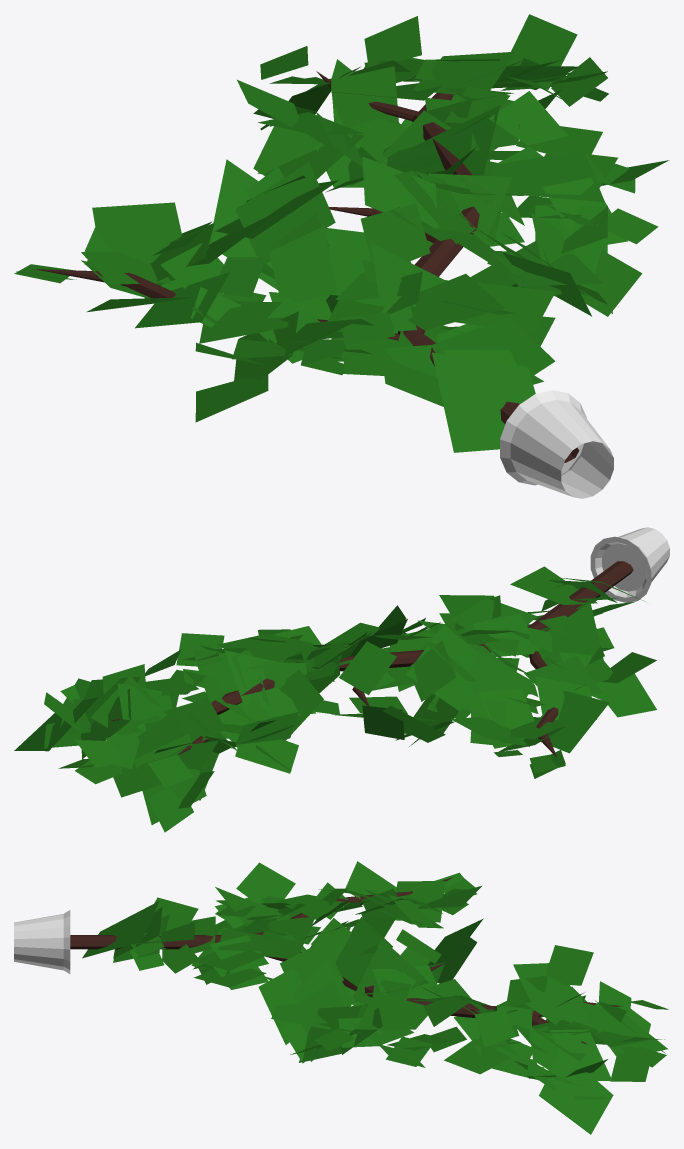
Rendered from Branche_Deco.fbx.
3 views of the same model, one above another, from view 1: azimuth 30°, elevation 25°; view 2: azimuth 150°, elevation 25°; view 3: azimuth 270°, elevation 25° (orthographic). The views are drawn at different scales.
Parts seen in each view (by area): view 1: Cylinder, Cylinder.001; view 2: Cylinder, Cylinder.001; view 3: Cylinder, Cylinder.001.
Part boxes in pixels (box(x1,y1,x2,y2)): Cylinder: box(14, 14, 669, 462); Cylinder.001: box(500, 390, 613, 498); Cylinder: box(14, 561, 656, 832); Cylinder.001: box(590, 527, 669, 602); Cylinder: box(70, 861, 668, 1134); Cylinder.001: box(14, 910, 70, 973).
Bounding box in the file's own units: 186 × 43.65 × 240.
